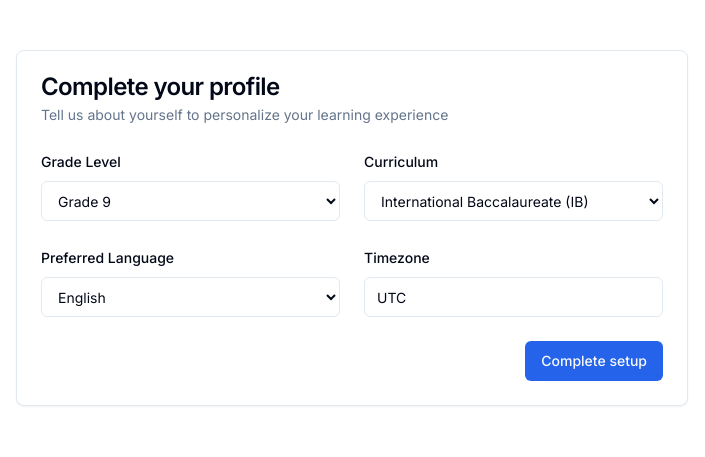
Test: SetupProfilePage › Profile Creation - Error Cases › should handle network errors
Click the button "Complete setup" at (594, 361), box [525,341,663,381]
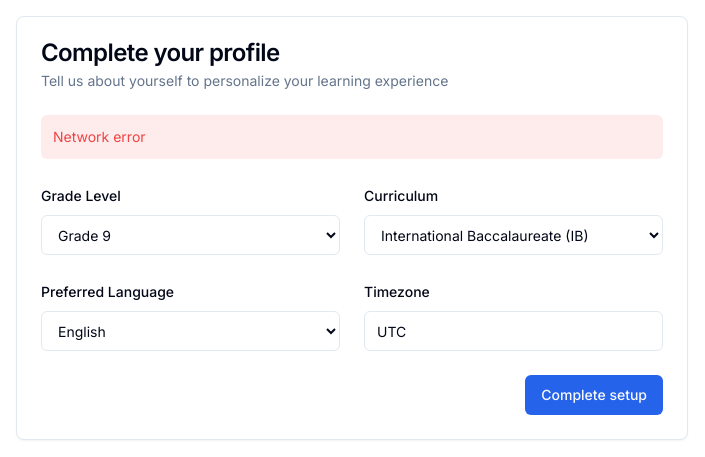
Now the text "Network error" is shown, box [41,115,663,159]
